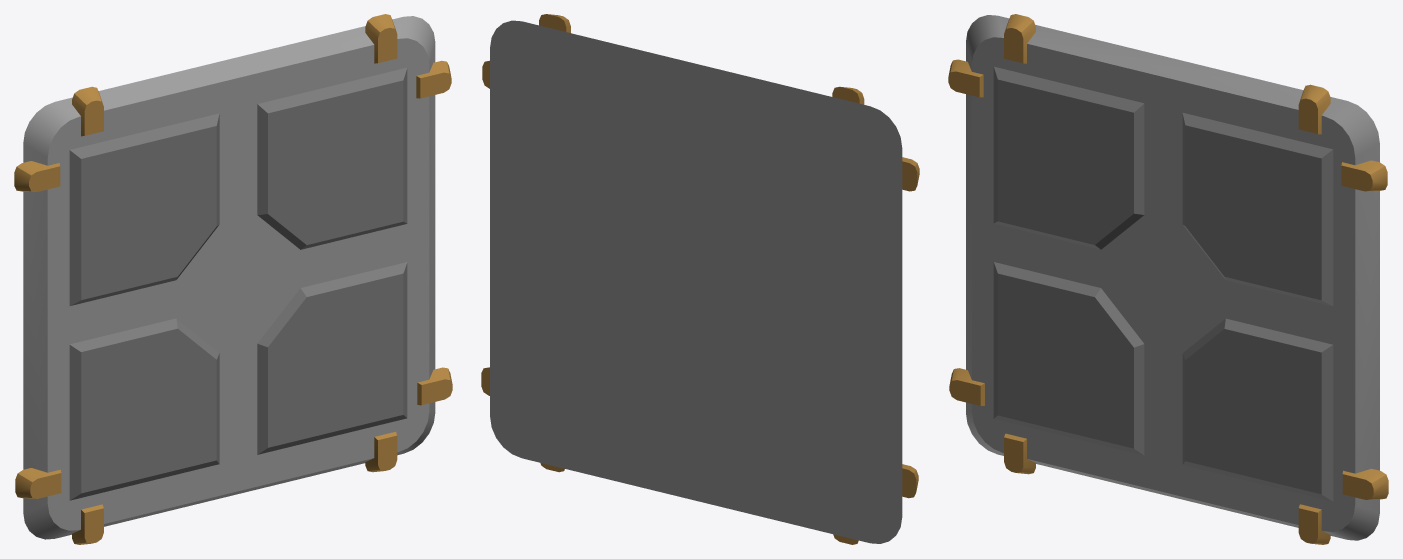
Rendered from Details_Plate_Details.glb.
The picture shows the model from 3 angles, left to right: view 1: azimuth 30°, elevation 25°; view 2: azimuth 150°, elevation 25°; view 3: azimuth 330°, elevation 25°; orthographic projection.
Parts seen in each view (by area): view 1: Details_Plate_Details; view 2: Details_Plate_Details; view 3: Details_Plate_Details.
Part boxes in pixels (x1,y1,x2,y2): Details_Plate_Details: (14, 14, 452, 544); Details_Plate_Details: (481, 14, 919, 544); Details_Plate_Details: (948, 14, 1388, 544).
Size of the model in its own units: 0.6199 by 0.6199 by 0.0321.
